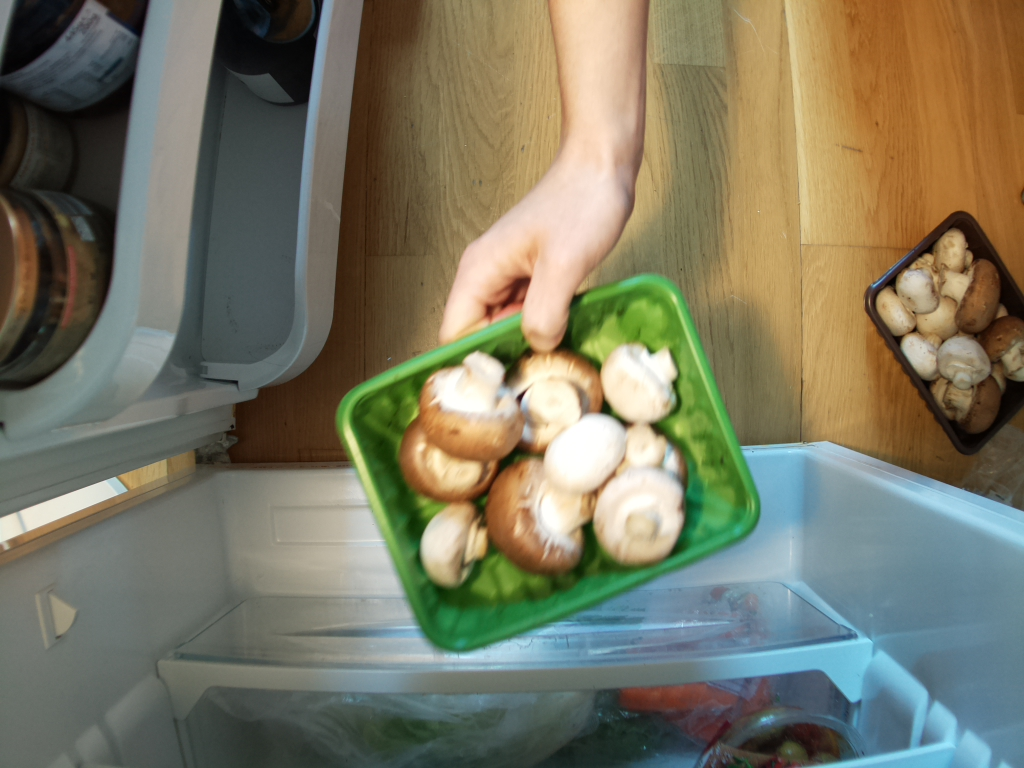mushrooms: (357, 304, 725, 581), (862, 216, 1024, 449)
